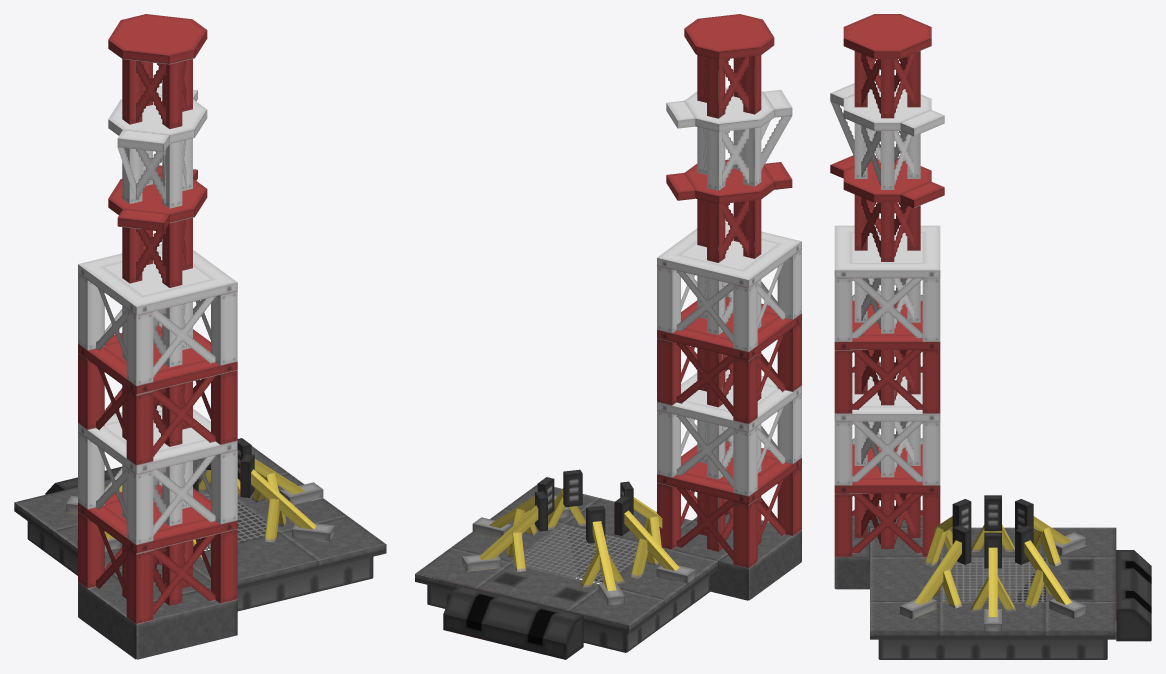
The model's file is atlas_pad.obj.
3 views of the same model, side by side, from view 1: azimuth 30°, elevation 25°; view 2: azimuth 150°, elevation 25°; view 3: azimuth 270°, elevation 25° (orthographic). The views are drawn at different scales.
Parts seen in each view (by area): view 1: atlas_pad; view 2: atlas_pad; view 3: atlas_pad.
Boxes of the visible parts, <box> form: atlas_pad: <box>14,14,386,659</box>; atlas_pad: <box>415,14,801,659</box>; atlas_pad: <box>830,14,1151,659</box>.
Bounding box in the file's own units: 8.12 × 16.75 × 9.12.
